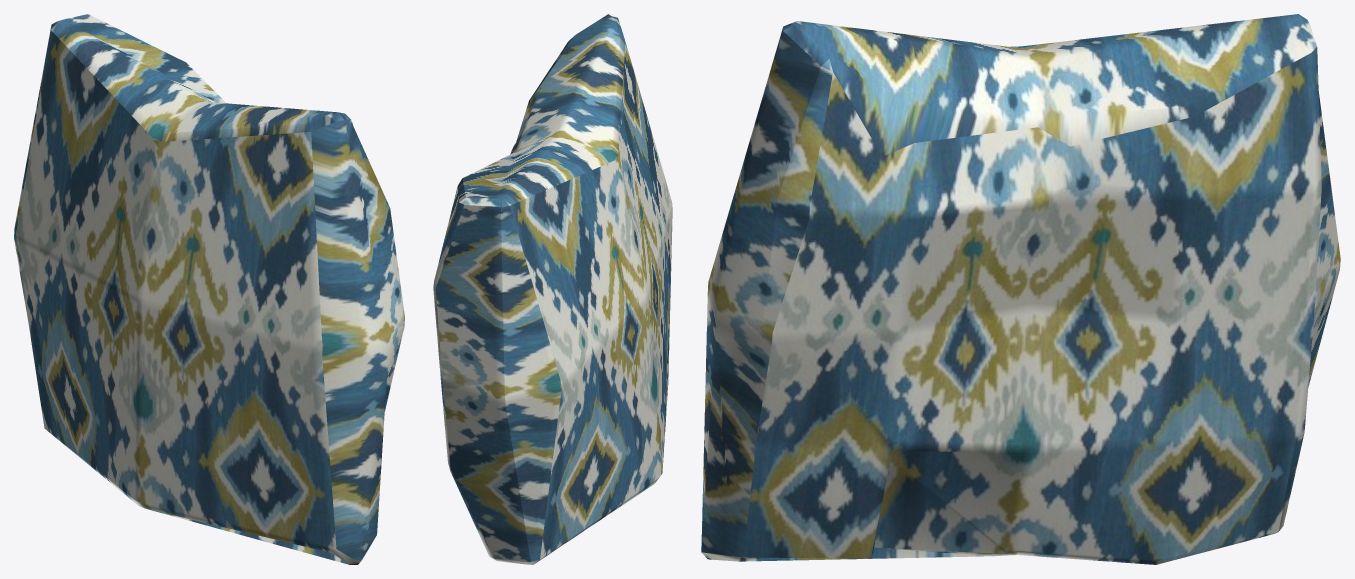
The model's file is cushion2.fbx.
3 renders of one model, left to right at view 1: azimuth 30°, elevation 25°; view 2: azimuth 150°, elevation 25°; view 3: azimuth 270°, elevation 25°, orthographic. The views are drawn at different scales.
Parts seen in each view (by area): view 1: cushion2; view 2: cushion2; view 3: cushion2.
Boxes of the visible parts, x1,y1,x2,y2 form: cushion2: (14,14,404,564); cushion2: (433,14,672,564); cushion2: (701,14,1340,564).
Size of the model in its own units: 0.5136 by 1.12 by 1.14.
Materials: 2 (2 with a texture image).
